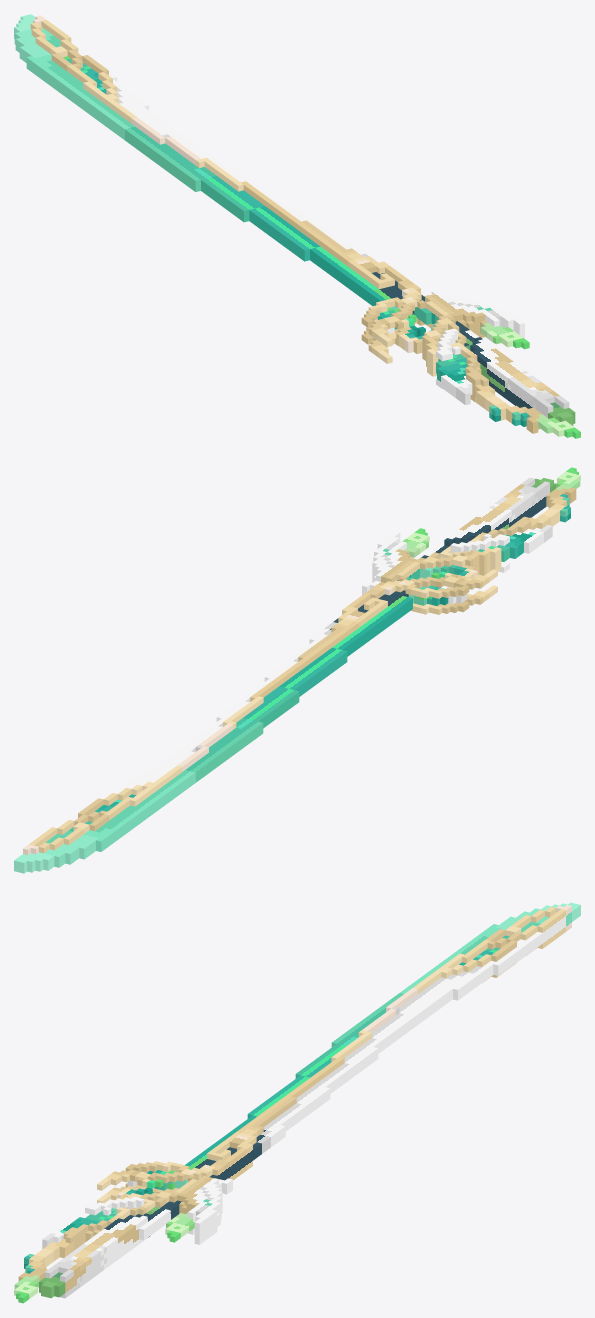
Rendered from 【原神】裁叶萃光.gltf.
3 views of the same model, one above another, from view 1: azimuth 30°, elevation 25°; view 2: azimuth 150°, elevation 25°; view 3: azimuth 330°, elevation 25° (orthographic). The views are drawn at different scales.
Visible parts, largest first — view 1: Object; view 2: Object; view 3: Object.
Boxes of the visible parts, box(x1,y1,x2,y2) form: Object: box(14, 14, 580, 438); Object: box(14, 467, 580, 873); Object: box(14, 902, 580, 1303).
Size of the model in its own units: 23 by 6 by 184.
1 material, 1 textured.
